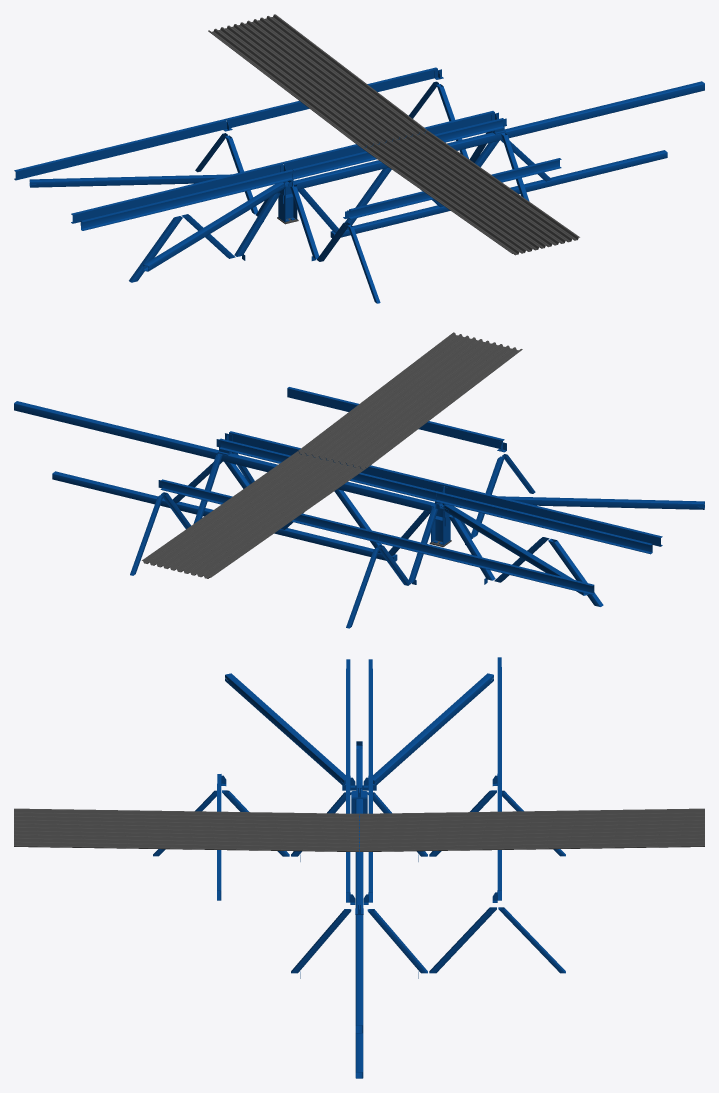
The model's file is GCC-AAV-13220-30.nwd(47).fbx.
3 renders of one model, top to bottom at view 1: azimuth 30°, elevation 25°; view 2: azimuth 150°, elevation 25°; view 3: azimuth 270°, elevation 25°, orthographic. The views are drawn at different scales.
Visible parts, largest first — view 1: Группа фасетов (×15), PANEL 639 of SBFRAMEWORK /13220-BD-001-211-5206/CS/KM1/SH/+1, PANEL 638 of SBFRAMEWORK /13220-BD-001-211-5206/CS/KM1/SH/+1, PANEL 655 of SBFRAMEWORK /13220-BD-001-211-5206/CS/KM1/SH/+1, PANEL 654 of SBFRAMEWORK /13220-BD-001-211-5206/CS/KM1/SH/+1, PANEL 647 of SBFRAMEWORK /13220-BD-001-211-5206/CS/KM1/SH/+1, PANEL 646 of SBFRAMEWORK /13220-BD-001-211-5206/CS/KM1/SH/+1; view 2: Группа фасетов (×17), PANEL 638 of SBFRAMEWORK /13220-BD-001-211-5206/CS/KM1/SH/+1, PANEL 639 of SBFRAMEWORK /13220-BD-001-211-5206/CS/KM1/SH/+1, PANEL 654 of SBFRAMEWORK /13220-BD-001-211-5206/CS/KM1/SH/+1, PANEL 655 of SBFRAMEWORK /13220-BD-001-211-5206/CS/KM1/SH/+1, PANEL 646 of SBFRAMEWORK /13220-BD-001-211-5206/CS/KM1/SH/+1, PANEL 647 of SBFRAMEWORK /13220-BD-001-211-5206/CS/KM1/SH/+1; view 3: PANEL 639 of SBFRAMEWORK /13220-BD-001-211-5206/CS/KM1/SH/+1, PANEL 638 of SBFRAMEWORK /13220-BD-001-211-5206/CS/KM1/SH/+1, Группа фасетов (×4), PANEL 655 of SBFRAMEWORK /13220-BD-001-211-5206/CS/KM1/SH/+1, PANEL 647 of SBFRAMEWORK /13220-BD-001-211-5206/CS/KM1/SH/+1, PANEL 654 of SBFRAMEWORK /13220-BD-001-211-5206/CS/KM1/SH/+1, PANEL 646 of SBFRAMEWORK /13220-BD-001-211-5206/CS/KM1/SH/+1.
Part boxes in pixels (x1,y1,x2,y2): Группа фасетов (×15): (14,67,704,303); PANEL 639 of SBFRAMEWORK /13220-BD-001-211-5206/CS/KM1/SH/+1: (248,14,427,137); PANEL 638 of SBFRAMEWORK /13220-BD-001-211-5206/CS/KM1/SH/+1: (400,130,579,245); PANEL 655 of SBFRAMEWORK /13220-BD-001-211-5206/CS/KM1/SH/+1: (208,26,385,147); PANEL 654 of SBFRAMEWORK /13220-BD-001-211-5206/CS/KM1/SH/+1: (360,142,537,255); PANEL 647 of SBFRAMEWORK /13220-BD-001-211-5206/CS/KM1/SH/+1: (228,21,405,142); PANEL 646 of SBFRAMEWORK /13220-BD-001-211-5206/CS/KM1/SH/+1: (381,137,557,250); Группа фасетов (×17): (14,387,704,628); PANEL 638 of SBFRAMEWORK /13220-BD-001-211-5206/CS/KM1/SH/+1: (298,332,481,458); PANEL 639 of SBFRAMEWORK /13220-BD-001-211-5206/CS/KM1/SH/+1: (142,451,325,568); PANEL 654 of SBFRAMEWORK /13220-BD-001-211-5206/CS/KM1/SH/+1: (341,344,522,468); PANEL 655 of SBFRAMEWORK /13220-BD-001-211-5206/CS/KM1/SH/+1: (185,463,366,578); PANEL 646 of SBFRAMEWORK /13220-BD-001-211-5206/CS/KM1/SH/+1: (320,339,501,463); PANEL 647 of SBFRAMEWORK /13220-BD-001-211-5206/CS/KM1/SH/+1: (164,458,345,573); PANEL 639 of SBFRAMEWORK /13220-BD-001-211-5206/CS/KM1/SH/+1: (359,830,704,851); PANEL 638 of SBFRAMEWORK /13220-BD-001-211-5206/CS/KM1/SH/+1: (14,830,359,851); Группа фасетов (×4): (225,673,496,1033); PANEL 655 of SBFRAMEWORK /13220-BD-001-211-5206/CS/KM1/SH/+1: (359,808,704,829); PANEL 647 of SBFRAMEWORK /13220-BD-001-211-5206/CS/KM1/SH/+1: (359,819,704,840); PANEL 654 of SBFRAMEWORK /13220-BD-001-211-5206/CS/KM1/SH/+1: (14,808,359,829); PANEL 646 of SBFRAMEWORK /13220-BD-001-211-5206/CS/KM1/SH/+1: (14,819,359,840).
Bounding box in the file's own units: 701 × 95.41 × 591.
